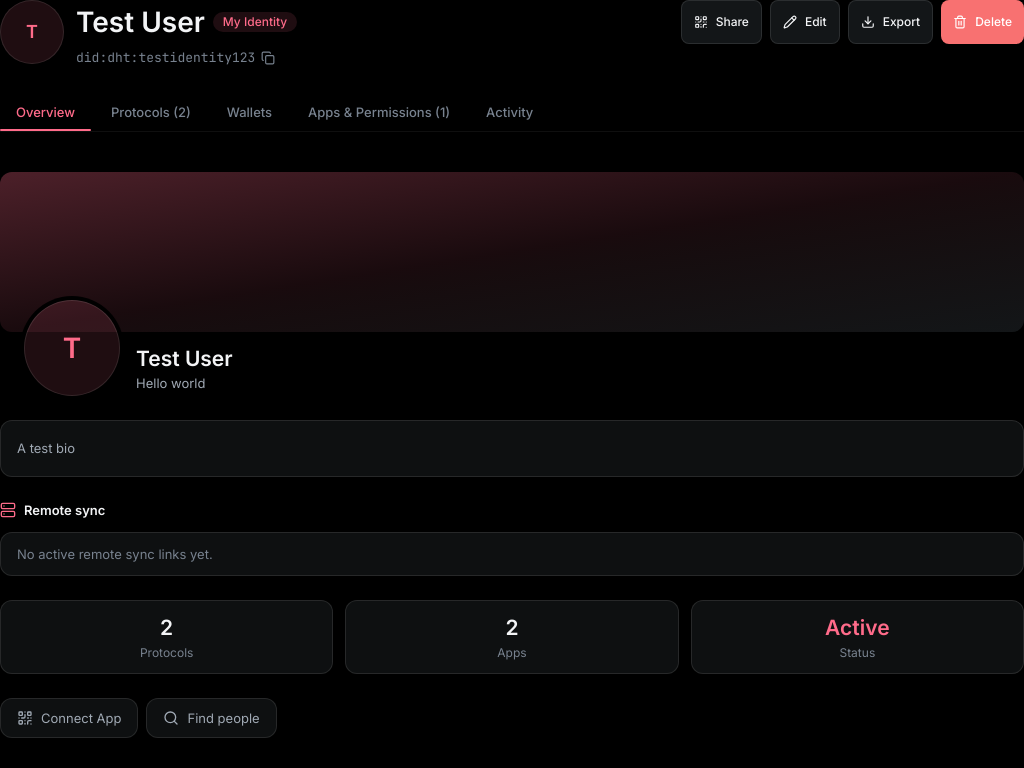
Test: IdentityDetailsPage › shows connect session metadata on the permissions tab
Click the tab "Apps & Permissions (1)" at (379, 112), box [292,93,466,131]
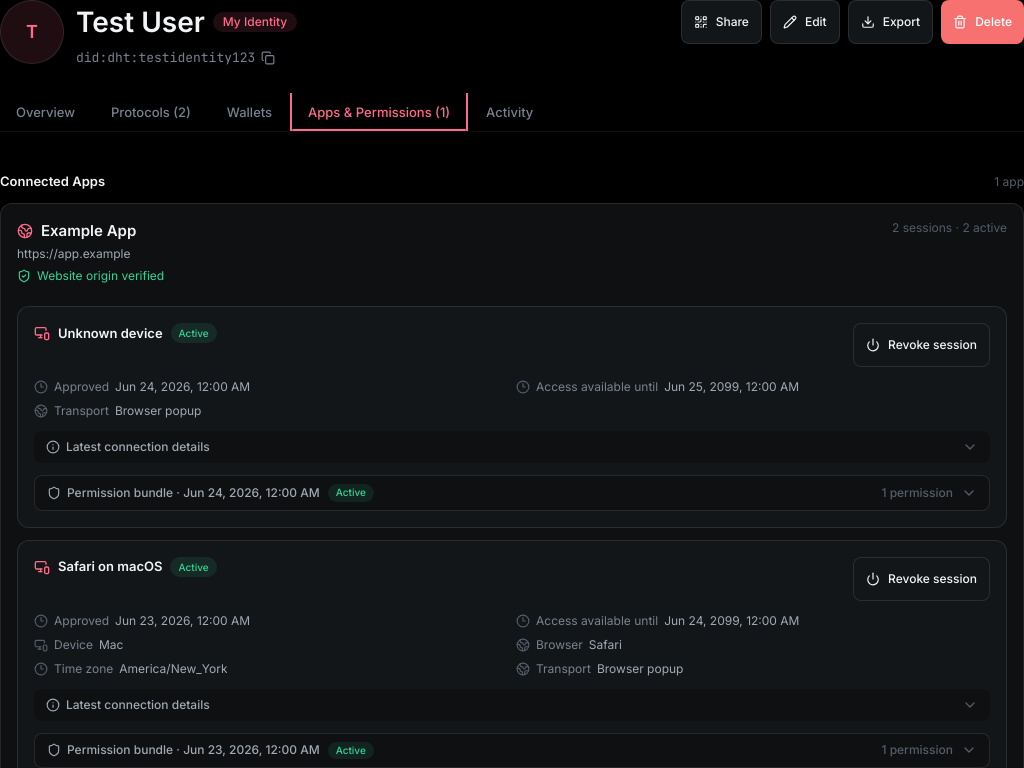
Expected: the heading "Connected Apps" is shown, [0,172,105,191]
Expected: the heading "Example App" is shown, [41,220,136,242]
Expected: the heading "Safari on macOS" is shown, [58,558,162,576]
